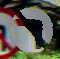Don't turn left: (7, 4, 55, 53)
